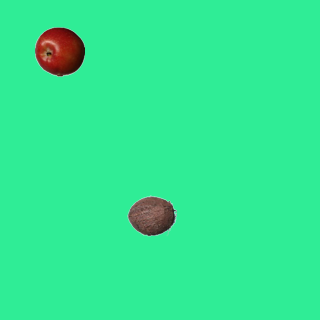Apple Braeburn: (34, 26, 84, 76)
Cocos: (126, 190, 176, 240)
